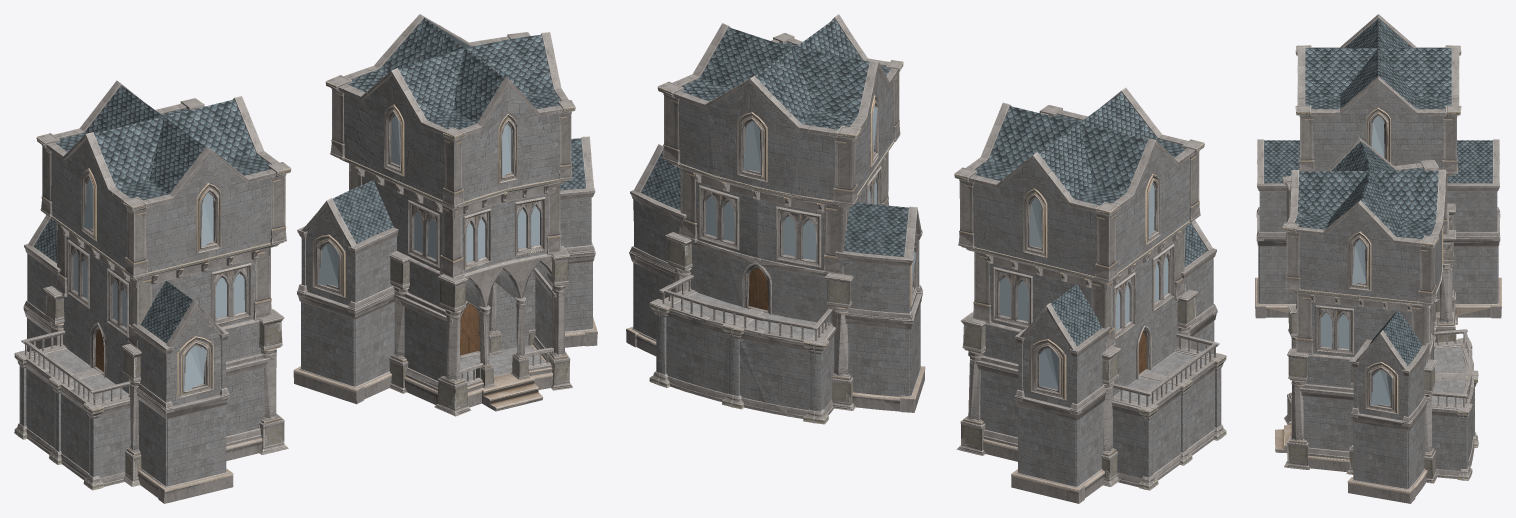
File: City_Homes_B.fbx
3 views of the same model, side by side, from view 1: azimuth 30°, elevation 25°; view 2: azimuth 150°, elevation 25°; view 3: azimuth 270°, elevation 25° (orthographic). The views are drawn at different scales.
Parts seen in each view (by area): view 1: City_Home_B1, City_Home_B2, City_Home_B2.003, City_Home_B1.001, City_Home_B2.002, City_Home_B1.002, City_Home_B2.001, City_Home_B1.003; view 2: City_Home_B1, City_Home_B2, City_Home_B1.001, City_Home_B2.002, City_Home_B2.001, City_Home_B2.003, City_Home_B1.002, City_Home_B1.003; view 3: City_Home_B2, City_Home_B1, City_Home_B2.001, City_Home_B2.003, City_Home_B2.002, City_Home_B1.003, City_Home_B1.001, City_Home_B1.002.
Part boxes in pixels (x1,y1,x2,y2): City_Home_B1: [14, 80, 291, 503]; City_Home_B2: [293, 14, 597, 416]; City_Home_B2.003: [293, 18, 596, 415]; City_Home_B1.001: [14, 103, 286, 501]; City_Home_B2.002: [294, 21, 597, 414]; City_Home_B1.002: [16, 89, 290, 503]; City_Home_B2.001: [294, 26, 597, 415]; City_Home_B1.003: [14, 85, 291, 503]; City_Home_B1: [954, 87, 1225, 503]; City_Home_B2: [626, 14, 925, 424]; City_Home_B1.001: [959, 107, 1226, 503]; City_Home_B2.002: [626, 17, 924, 423]; City_Home_B2.001: [626, 26, 925, 424]; City_Home_B2.003: [626, 19, 924, 423]; City_Home_B1.002: [954, 97, 1224, 503]; City_Home_B1.003: [954, 92, 1226, 503]; City_Home_B2: [1275, 137, 1478, 503]; City_Home_B1: [1255, 14, 1501, 340]; City_Home_B2.001: [1275, 156, 1477, 501]; City_Home_B2.003: [1275, 141, 1478, 503]; City_Home_B2.002: [1275, 142, 1477, 493]; City_Home_B1.003: [1255, 48, 1501, 342]; City_Home_B1.001: [1255, 25, 1501, 340]; City_Home_B1.002: [1255, 18, 1500, 337].
Bounding box in the file's own units: 3747 × 2076 × 1692.
